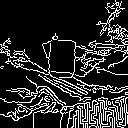cube: (47, 38, 76, 81)
